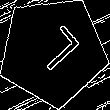L_SW: (25, 23, 82, 80)
